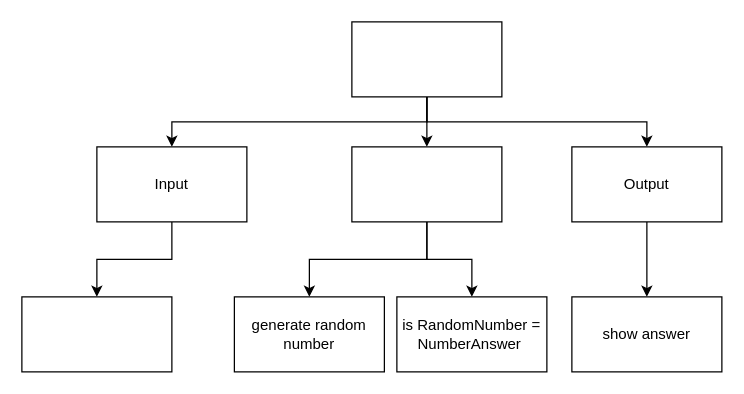
This 744x394 diagram has some shape labels left out. Each missing label, with the centre of its shape:
"input number" goes at point (96, 334).
"number game" goes at point (426, 59).
"Process" goes at point (426, 184).
